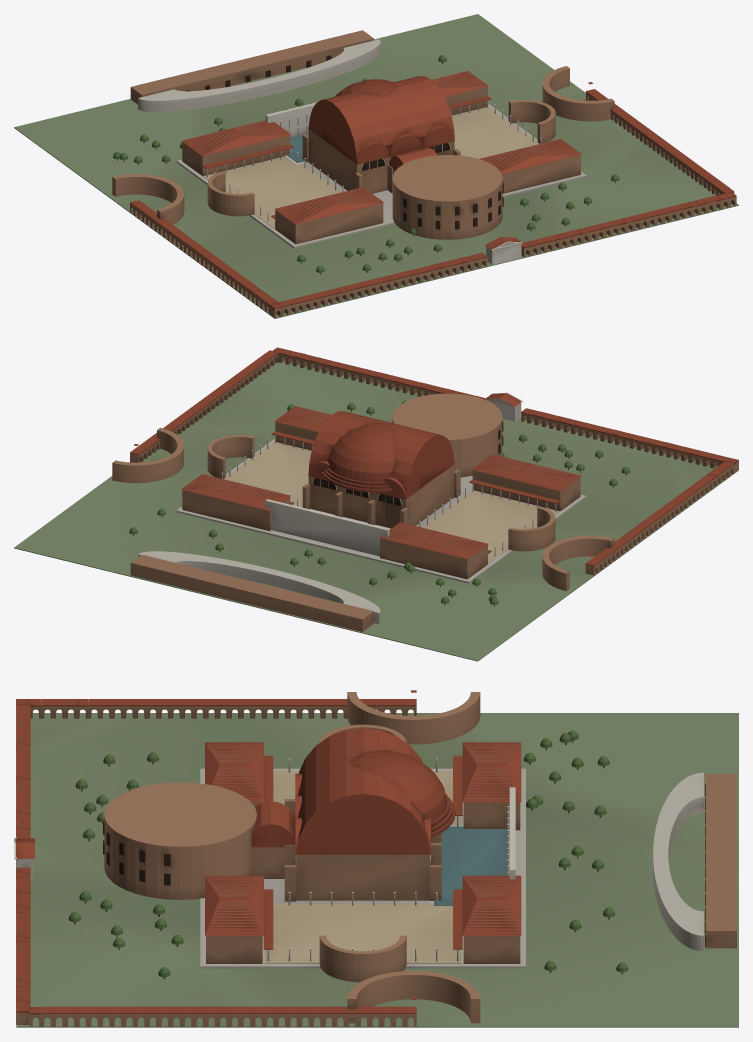
Rendered from baths-of-diocletian.glb.
The picture shows the model from 3 angles, top to bottom: view 1: azimuth 30°, elevation 25°; view 2: azimuth 150°, elevation 25°; view 3: azimuth 270°, elevation 25°; orthographic projection. The views are drawn at different scales.
Parts seen in each view (by area): view 1: p0_precinct, p1_halls, p2_domes; view 2: p0_precinct, p1_halls, p2_domes; view 3: p0_precinct, p1_halls, p2_domes.
Boxes of the visible parts, <box> form: p0_precinct: <box>14,14,738,318</box>; p1_halls: <box>113,39,619,274</box>; p2_domes: <box>133,71,593,250</box>; p0_precinct: <box>14,347,738,661</box>; p1_halls: <box>129,393,630,624</box>; p2_domes: <box>133,392,592,559</box>; p0_precinct: <box>16,692,738,1027</box>; p1_halls: <box>68,724,703,982</box>; p2_domes: <box>14,690,521,999</box>.
Bounding box in the file's own units: 380 × 63.65 × 371.
